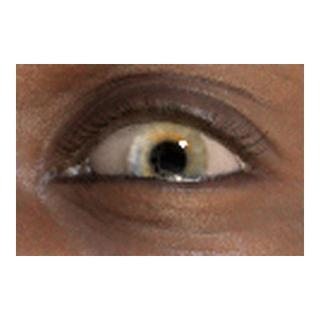pupil: (150, 141, 186, 177)
